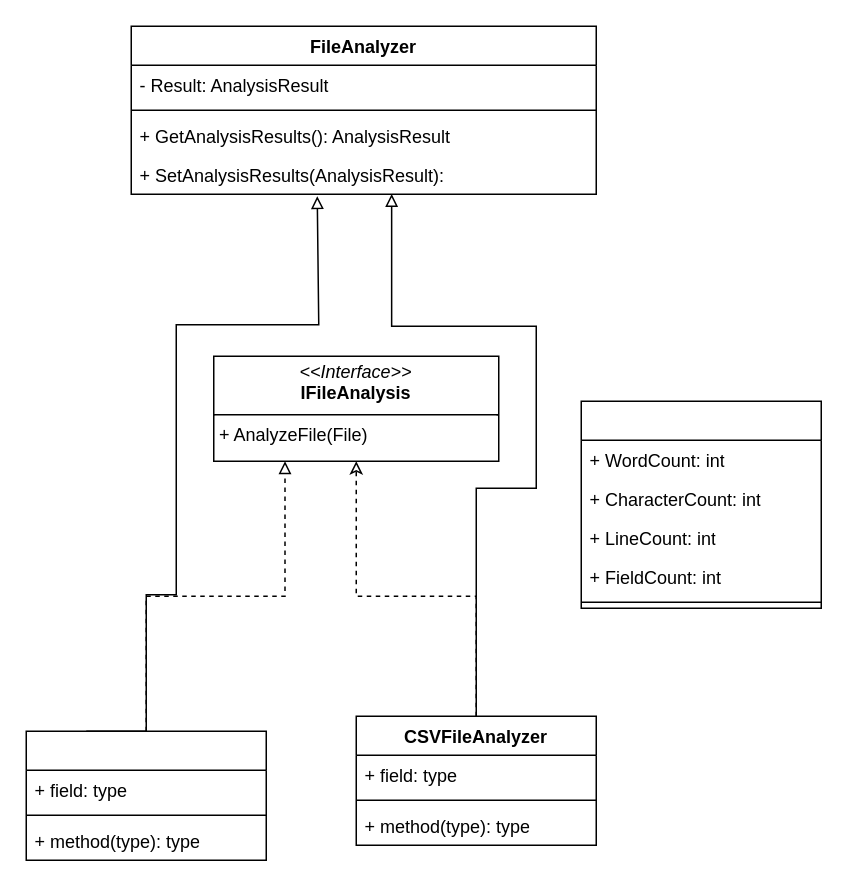
Some shapes in this 848 by 891 pixel diagram are drawn without their labels. Each missing label, with the box of its shape:
AnalysisResults: (580, 400, 821, 608)
TextFileAnalyzer: (25, 730, 266, 860)
